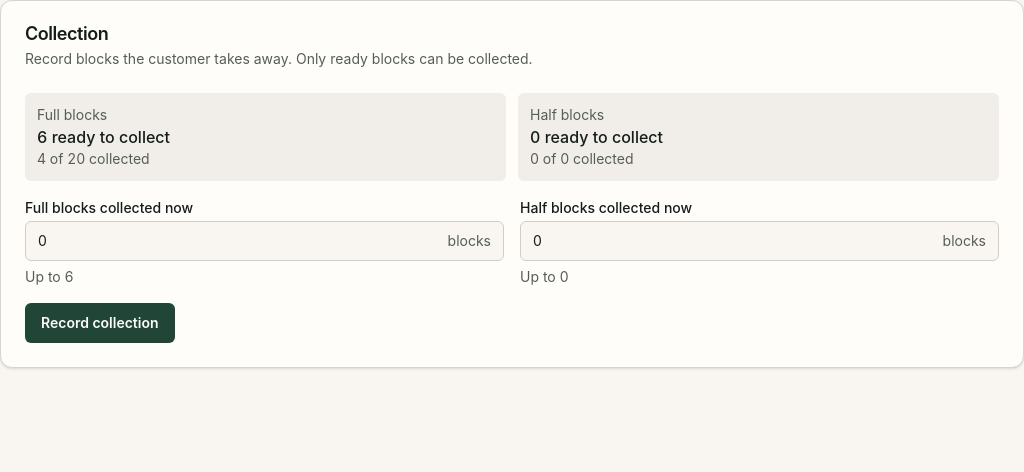
Test: CollectionSection › retries the exact collection payload after a lost response
Replace the text in the number field labelled "Full blocks collected now" with "2" at coordinates (237, 241), box [26,222,448,260]
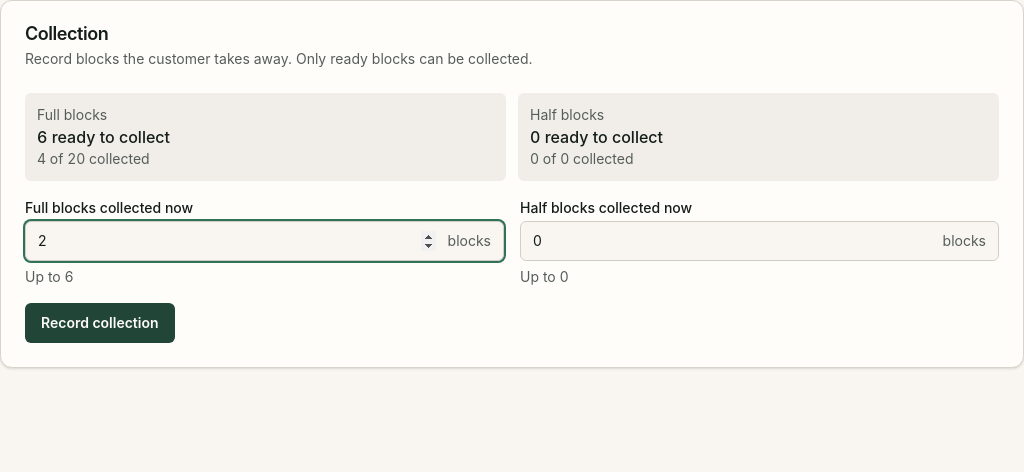
Click the button "Record collection" at coordinates (100, 323), box [25,303,175,343]
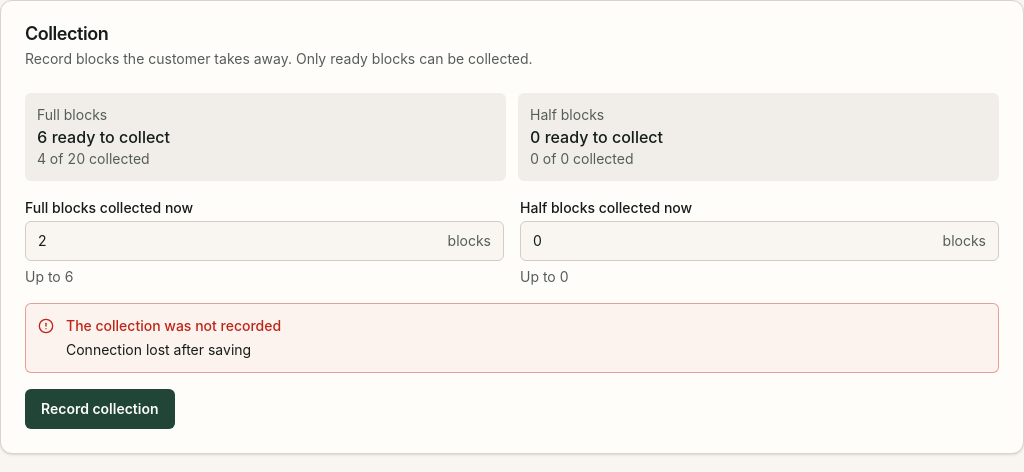
Expected: the message shows "Connection lost", [66,341,251,358]
Click the button "Record collection" at coordinates (100, 409), box [25,389,175,429]
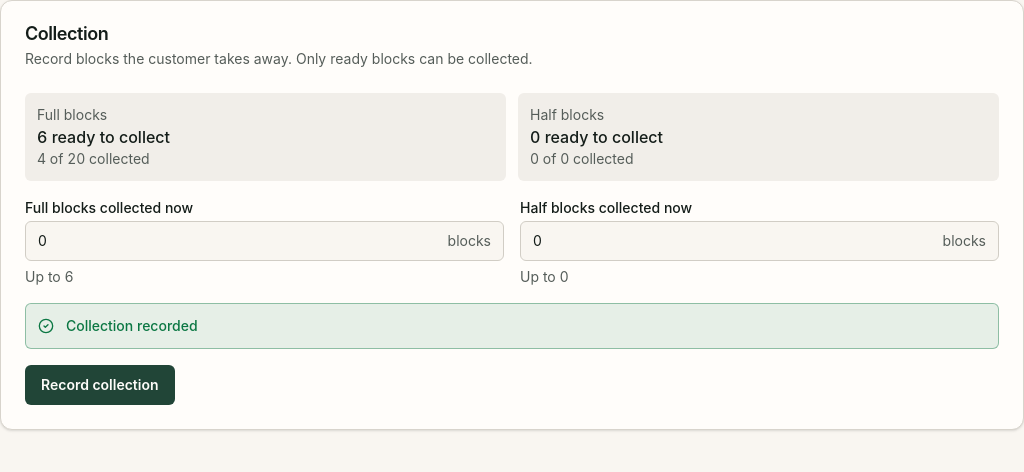
Expected: the text "Collection recorded" is shown, [66,316,198,336]
